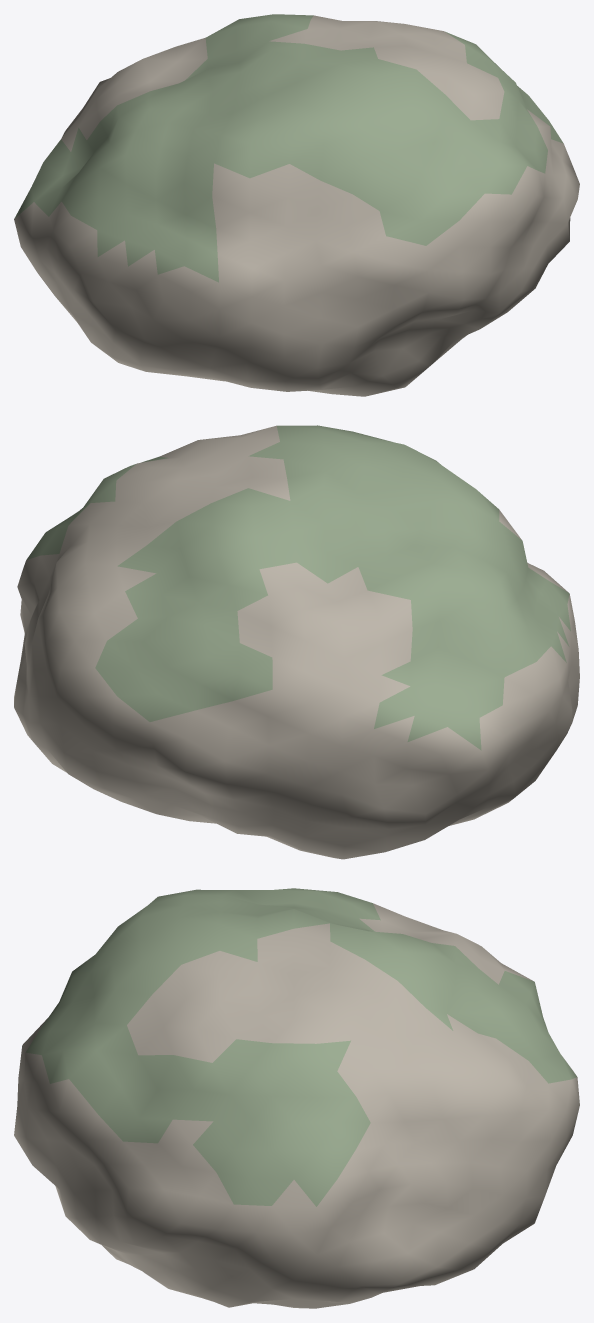
File: rock.gltf
3 views of the same model, one above another, from view 1: azimuth 30°, elevation 25°; view 2: azimuth 150°, elevation 25°; view 3: azimuth 270°, elevation 25° (orthographic). The views are drawn at different scales.
Visible parts, largest first — view 1: rock; view 2: rock; view 3: rock.
Part boxes in pixels (left/top/right/bottom): rock: left=14, top=14, right=579, bottom=396; rock: left=14, top=425, right=579, bottom=859; rock: left=14, top=888, right=579, bottom=1308.
Bounding box in the file's own units: 16 × 10.15 × 14.46.
